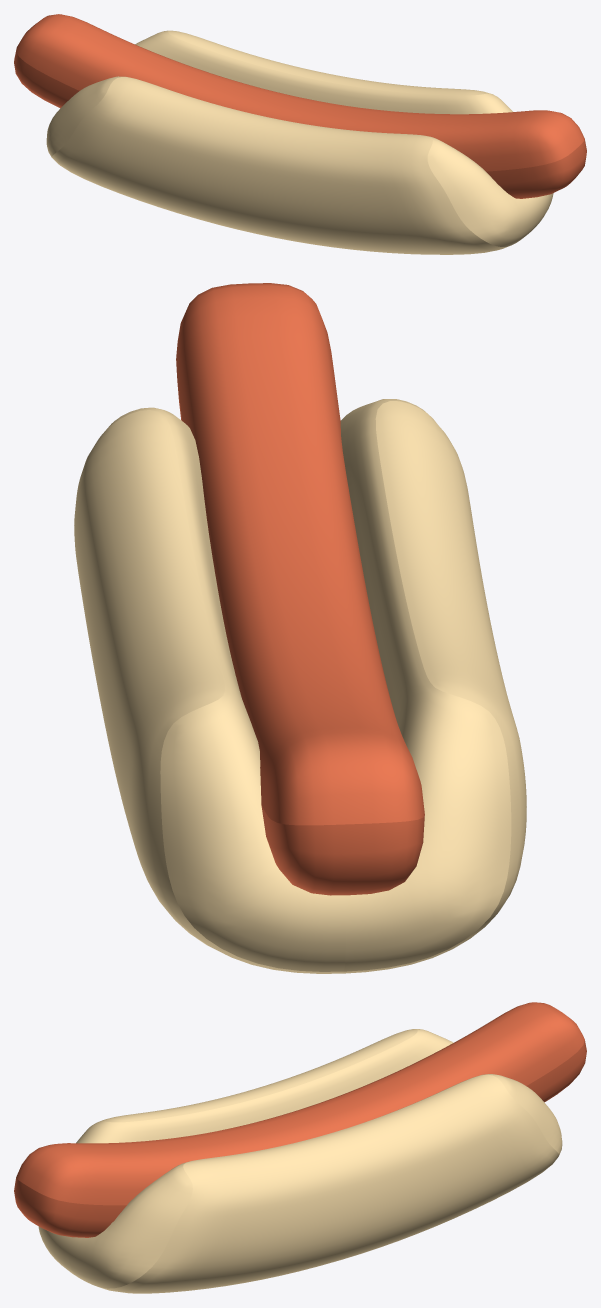
Rendered from HotDog.dae.
The picture shows the model from 3 angles, top to bottom: view 1: azimuth 30°, elevation 25°; view 2: azimuth 150°, elevation 25°; view 3: azimuth 270°, elevation 25°; orthographic projection. The views are drawn at different scales.
Parts seen in each view (by area): view 1: Bun, Dog; view 2: Bun, Dog; view 3: Bun, Dog.
Boxes of the visible parts, box(x1,y1,x2,y2) form: Bun: box(46, 30, 553, 254); Dog: box(14, 14, 586, 198); Bun: box(74, 399, 526, 973); Dog: box(176, 283, 424, 895); Bun: box(38, 1029, 562, 1293); Dog: box(14, 1002, 586, 1237).
Size of the model in its own units: 0.1201 by 0.1591 by 0.052.
